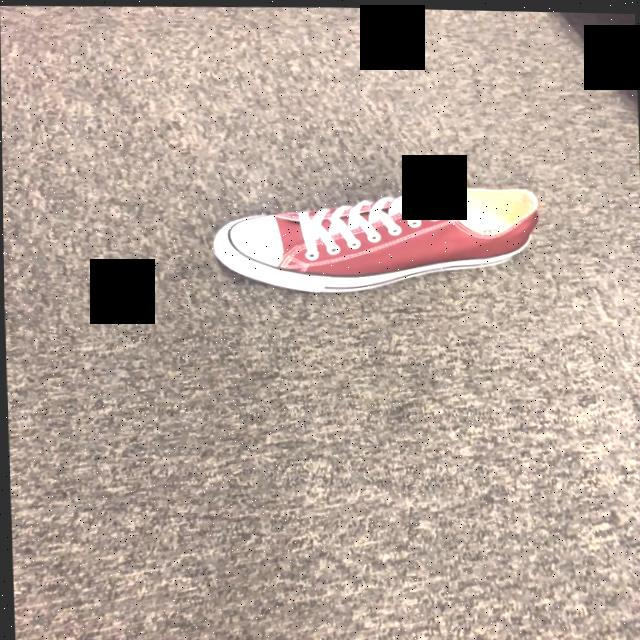shoe: (212, 184, 540, 294)
